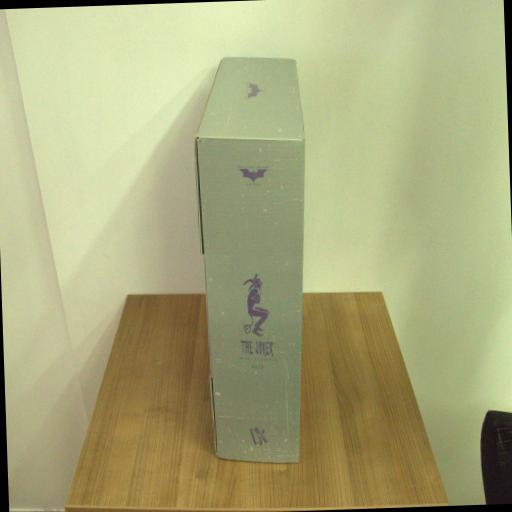Joker: (190, 53, 316, 469)
